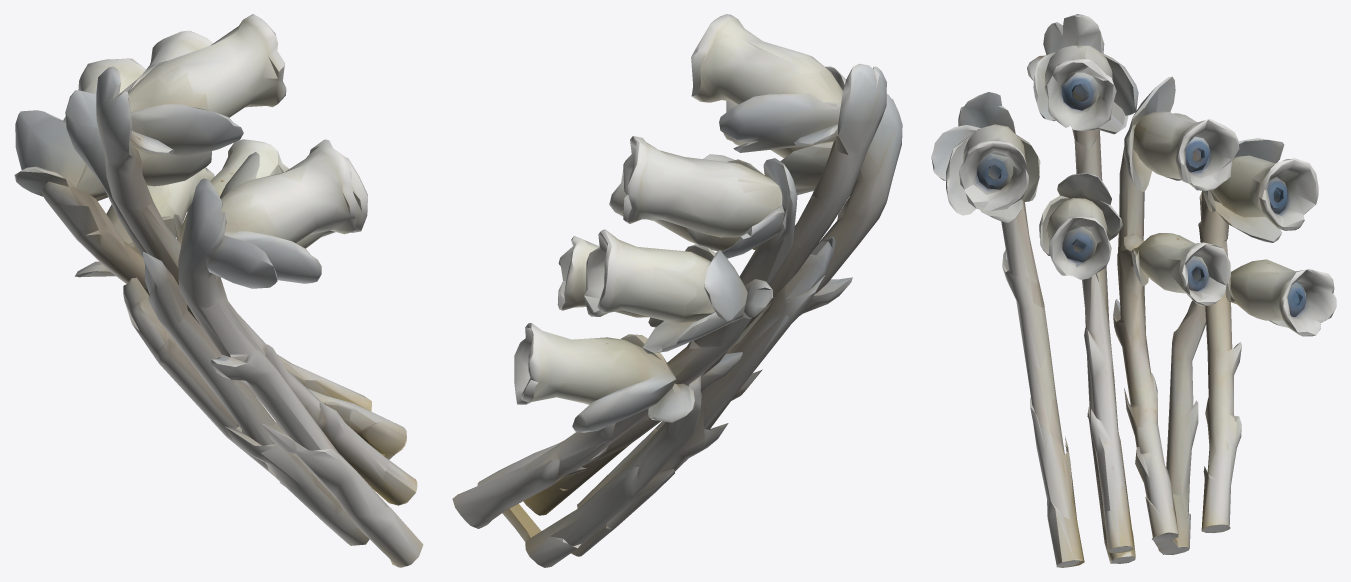
The model's file is cave_ore_02.glb.
3 renders of one model, left to right at view 1: azimuth 30°, elevation 25°; view 2: azimuth 150°, elevation 25°; view 3: azimuth 270°, elevation 25°, orthographic. The views are drawn at different scales.
Visible parts, largest first — view 1: 水晶兰; view 2: 水晶兰; view 3: 水晶兰.
Boxes of the visible parts, x1,y1,x2,y2 form: 水晶兰: [14, 14, 423, 567]; 水晶兰: [452, 14, 902, 567]; 水晶兰: [931, 14, 1336, 567].
Size of the model in its own units: 0.3503 by 0.5338 by 0.4272.
1 material, 1 textured.
